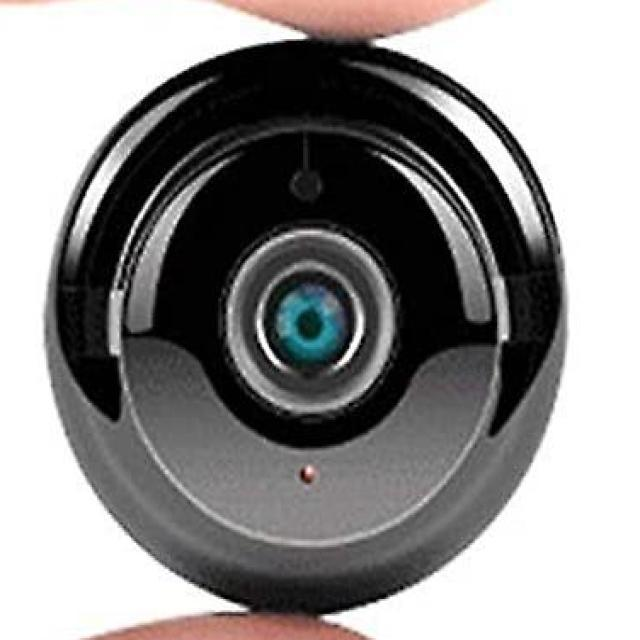hidden camera: (0, 38, 618, 600)
